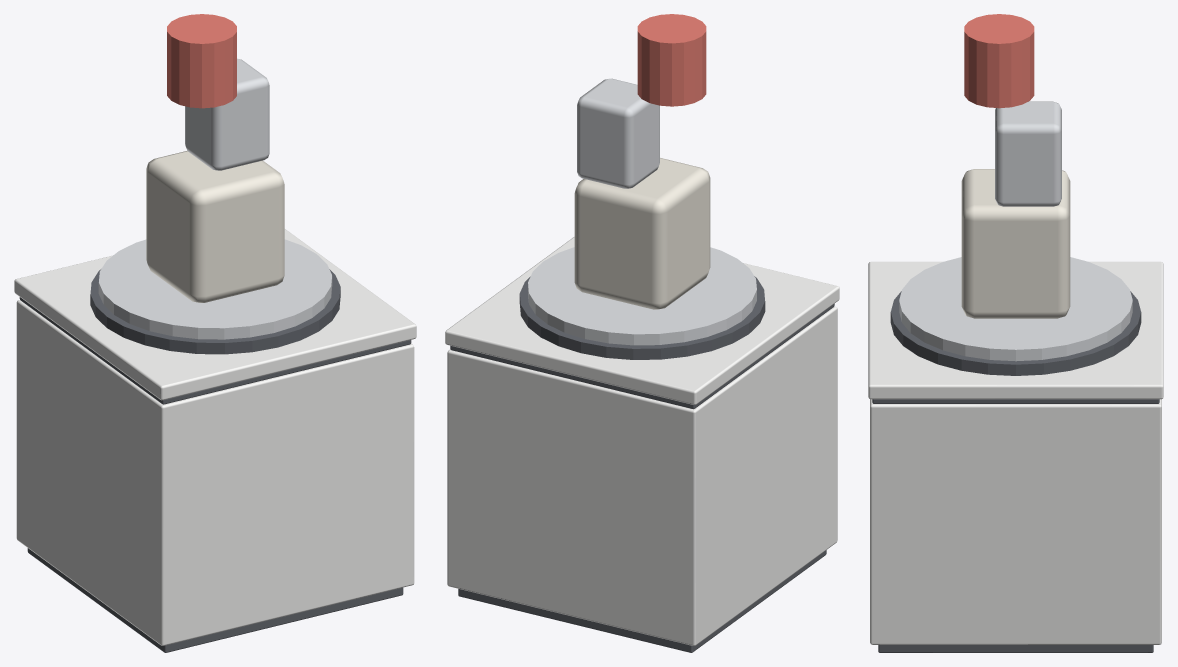
3 views of the same model, side by side, from view 1: azimuth 30°, elevation 25°; view 2: azimuth 150°, elevation 25°; view 3: azimuth 270°, elevation 25° (orthographic).
Visible parts, largest first — view 1: sculpture-turntable-stand, turntable/steel, turntable/linen, turntable/red; view 2: sculpture-turntable-stand, turntable/steel, turntable/linen, turntable/red; view 3: sculpture-turntable-stand, turntable/steel, turntable/linen, turntable/red.
Boxes of the visible parts, box(x1,y1,x2,y2) form: sculpture-turntable-stand: box(14, 229, 416, 652); turntable/steel: box(98, 58, 332, 339); turntable/linen: box(146, 150, 284, 302); turntable/red: box(167, 14, 236, 108); sculpture-turntable-stand: box(445, 237, 839, 652); turntable/steel: box(528, 78, 756, 345); turntable/linen: box(574, 158, 710, 309); turntable/red: box(637, 14, 706, 106); sculpture-turntable-stand: box(868, 261, 1163, 652); turntable/steel: box(899, 101, 1132, 361); turntable/linen: box(961, 169, 1070, 318); turntable/red: box(964, 14, 1034, 108).
Bounding box in the file's own units: 0.708 × 1.47 × 0.708.
